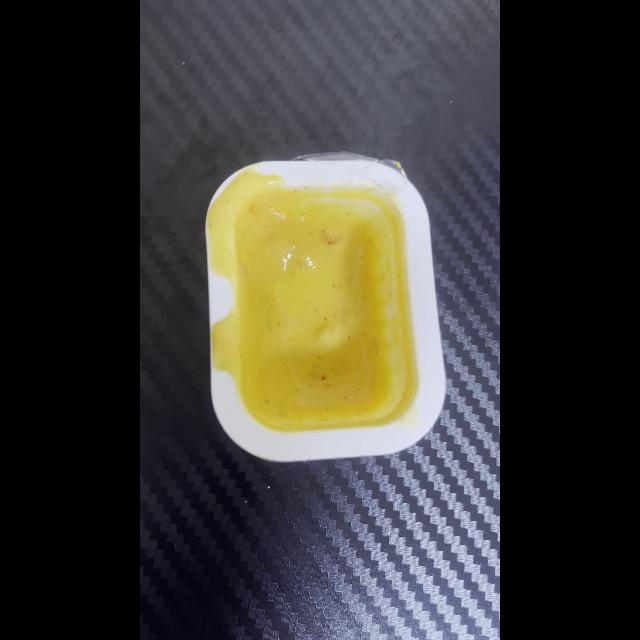dirty: (207, 160, 446, 458)
